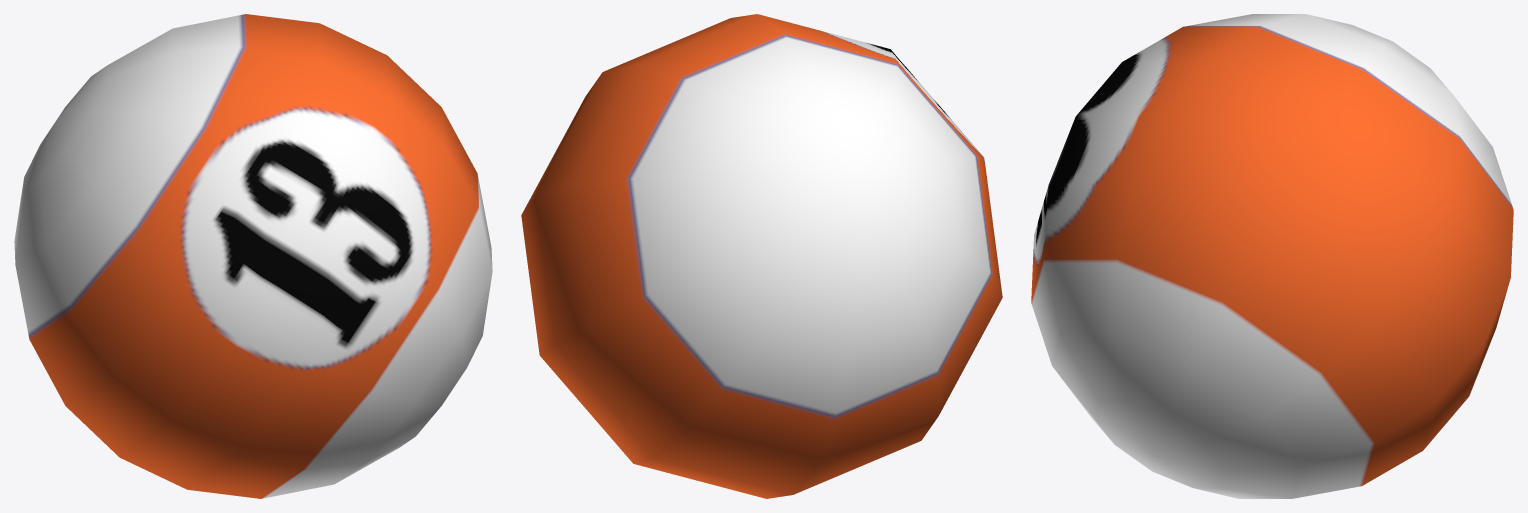
File: Ball13.gltf
3 views of the same model, side by side, from view 1: azimuth 30°, elevation 25°; view 2: azimuth 150°, elevation 25°; view 3: azimuth 270°, elevation 25° (orthographic).
Parts seen in each view (by area): view 1: Ball10_Material_#27_0; view 2: Ball10_Material_#27_0; view 3: Ball10_Material_#27_0.
Boxes of the visible parts, x1,y1,x2,y2 form: Ball10_Material_#27_0: (14,14,492,498); Ball10_Material_#27_0: (521,14,1002,498); Ball10_Material_#27_0: (1031,14,1513,498).
Bounding box in the file's own units: 5.66 × 5.76 × 5.66.
Materials: 1 (1 with a texture image).
